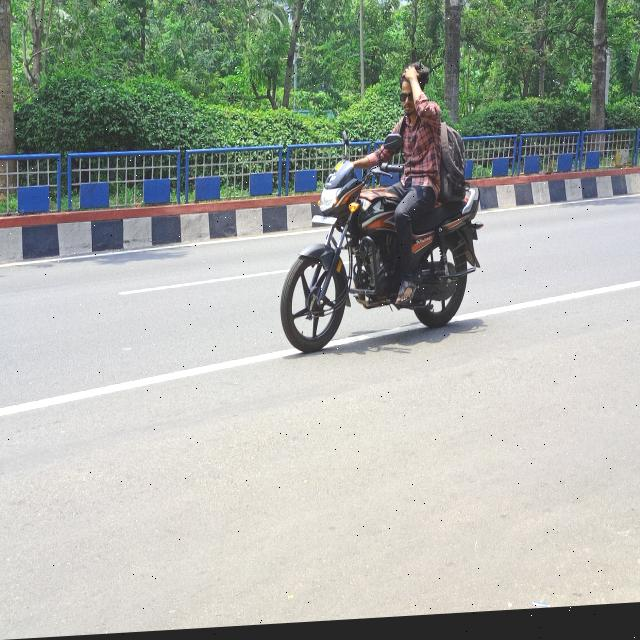bike: (241, 147, 502, 373)
